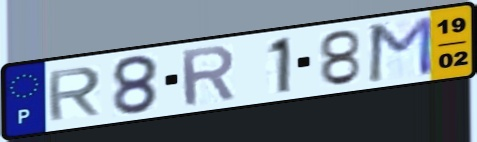1: (265, 34, 294, 96)
8: (109, 53, 161, 117), (316, 28, 363, 86)
M: (365, 14, 435, 85)
R: (177, 42, 238, 109), (45, 64, 104, 124)
